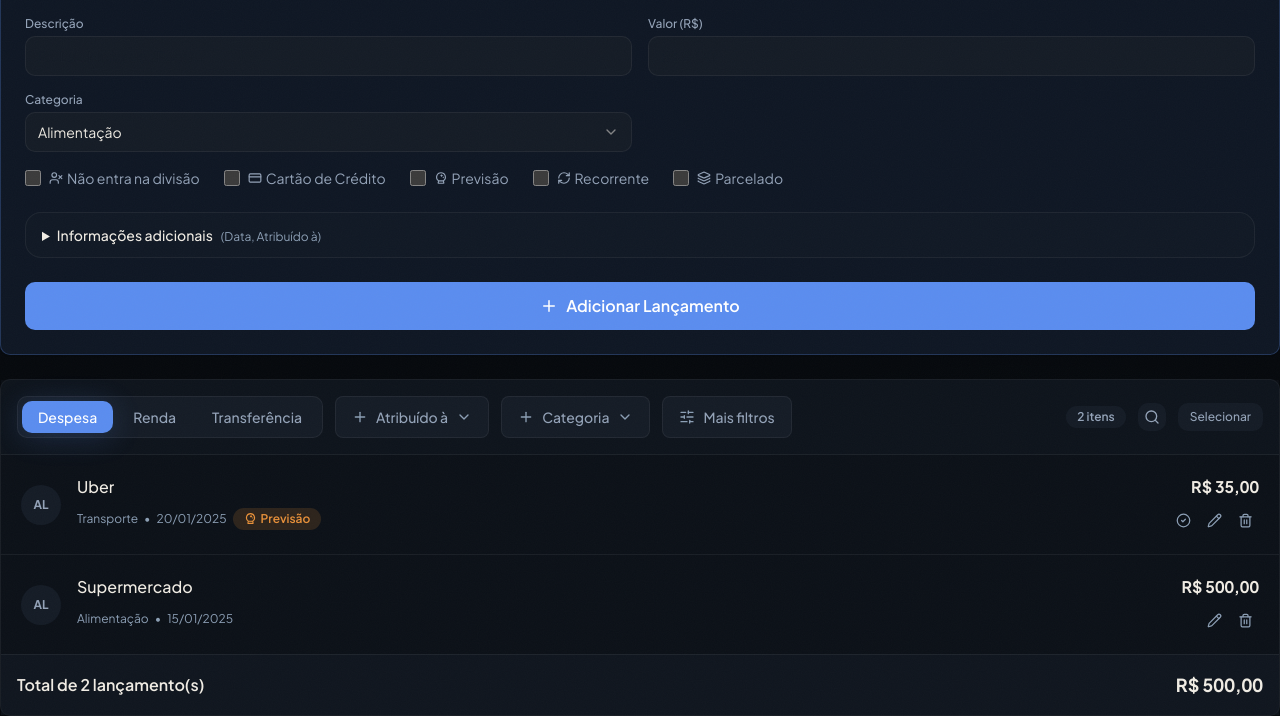
Scenario: TransactionsView › Edit transaction modal › clicking Pencil opens EditTransactionModal with pre-filled values
(page scrolled)
Click the button named "Editar lançamento: Supermercado" at (1214, 621), box [1201,607,1228,634]
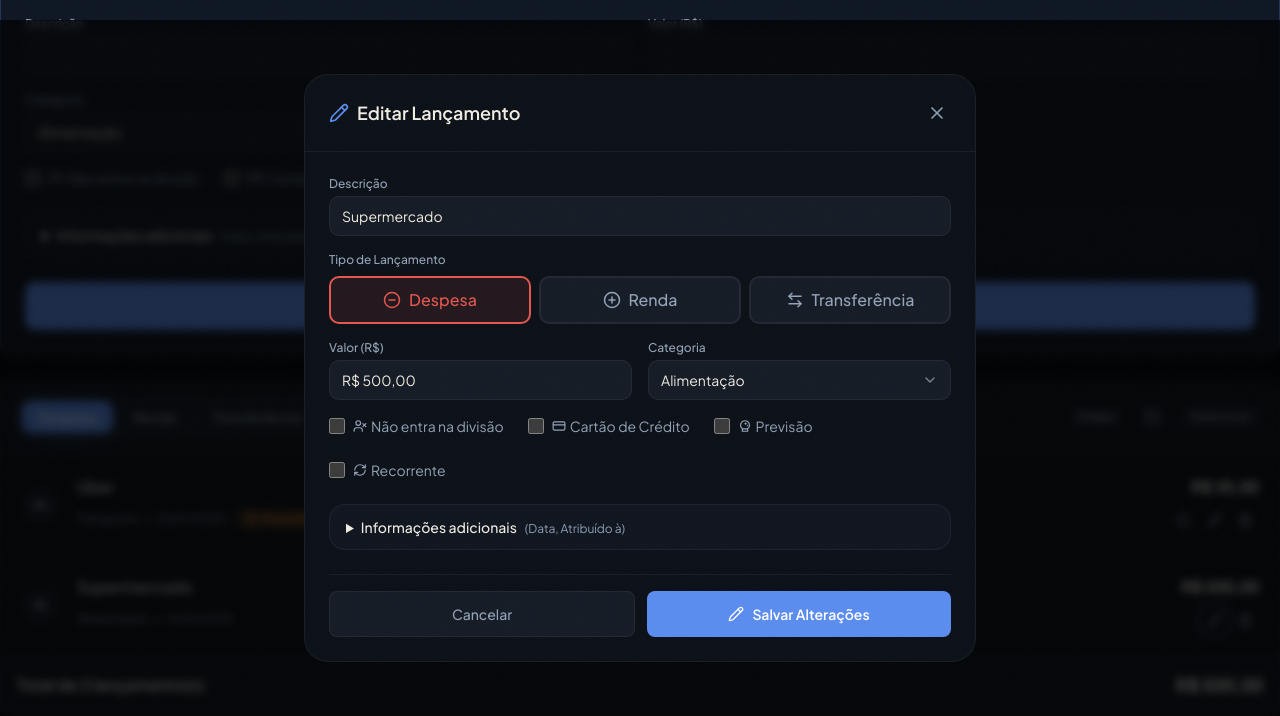
Now the field with id "edit-description" is shown, box [329,196,951,236]
